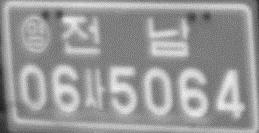0: (141, 66, 174, 117), (17, 62, 48, 111)
4: (214, 69, 246, 120)
5: (108, 64, 138, 116)
6: (176, 66, 210, 118), (50, 63, 81, 113)
사: (82, 66, 106, 110)
영: (19, 15, 51, 54)
전남_D: (59, 16, 190, 57)
